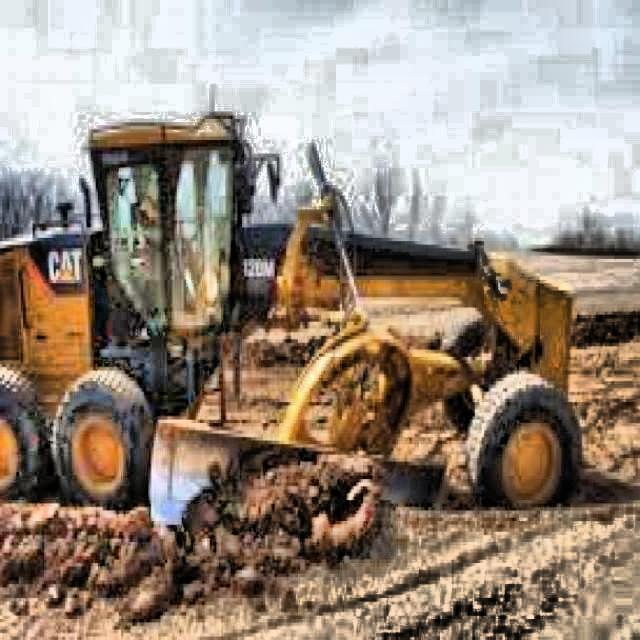bull_dozer/loader/grader: (0, 109, 587, 542)
person: (138, 183, 165, 244)
